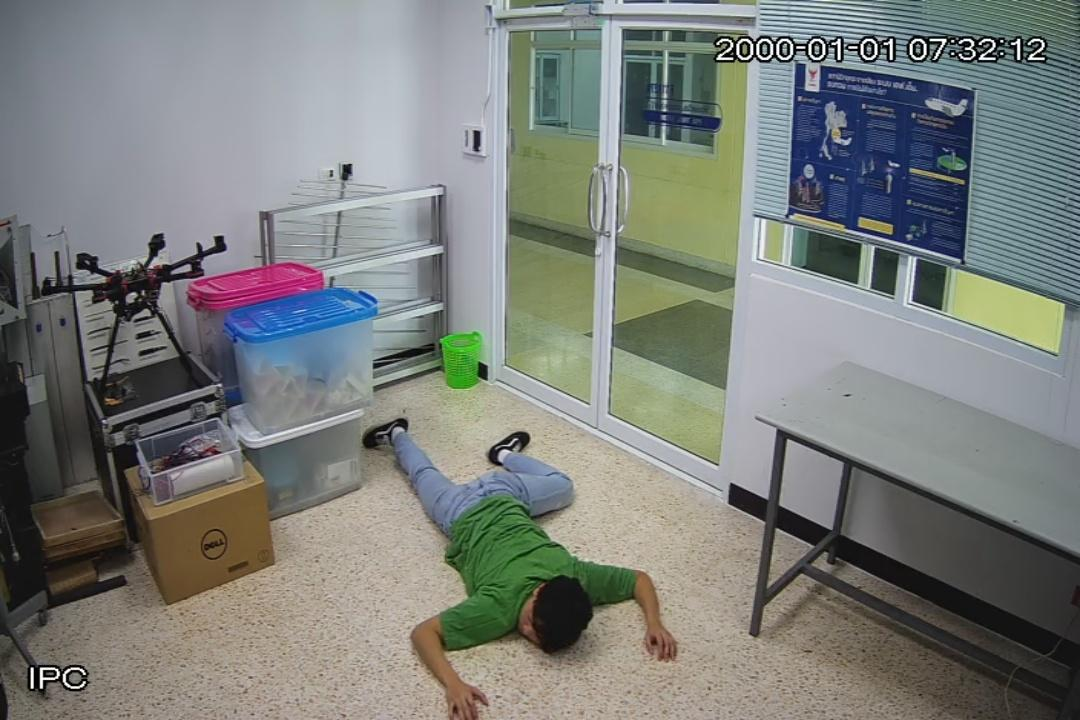fall: (354, 386, 684, 714)
